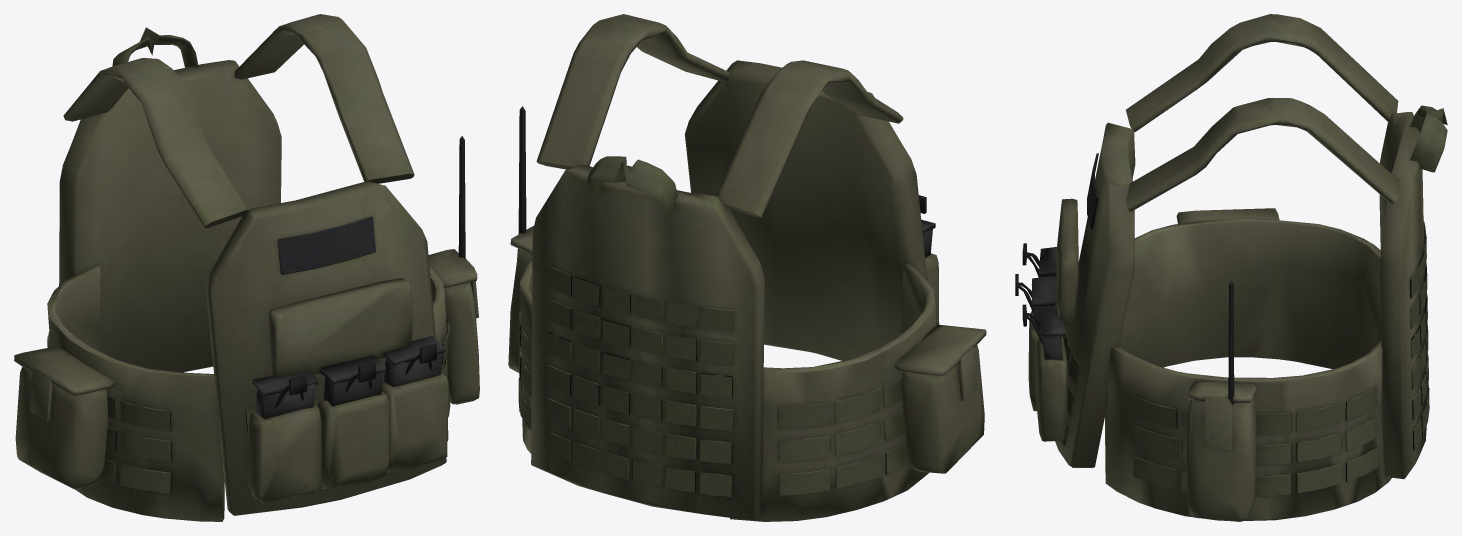
The model's file is vest_3_lod1.glb.
The picture shows the model from 3 angles, left to right: view 1: azimuth 30°, elevation 25°; view 2: azimuth 150°, elevation 25°; view 3: azimuth 270°, elevation 25°; orthographic projection. The views are drawn at different scales.
Visible parts, largest first — view 1: body; view 2: body; view 3: body.
Part boxes in pixels (<box>): body: <box>14,14,479,521</box>; body: <box>508,14,986,521</box>; body: <box>1015,14,1447,521</box>.
Bounding box in the file's own units: 0.5493 × 0.47 × 0.4913.
Materials: 1 (1 with a texture image).
